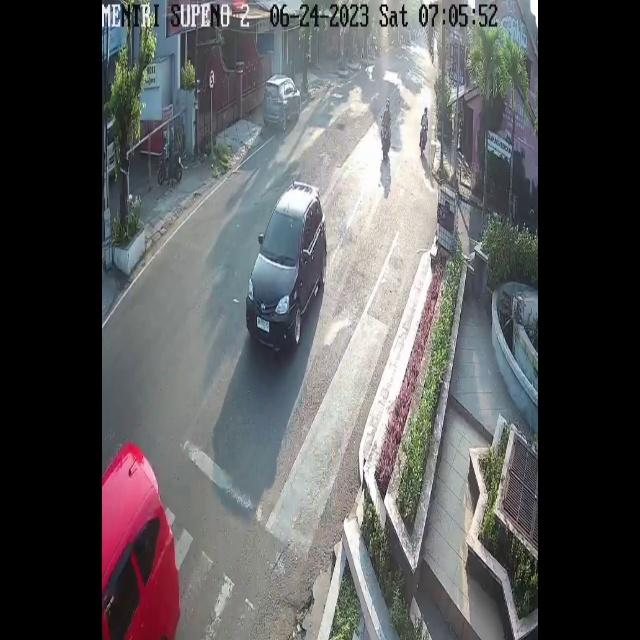bus: (380, 119, 391, 161), (420, 124, 429, 154)
motorcycle: (102, 440, 180, 640), (245, 180, 326, 355), (263, 73, 302, 131)
